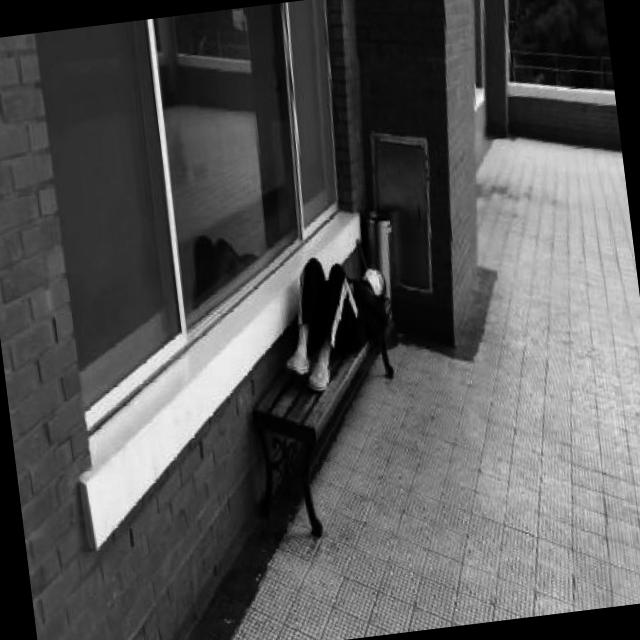person: (266, 242, 399, 397)
